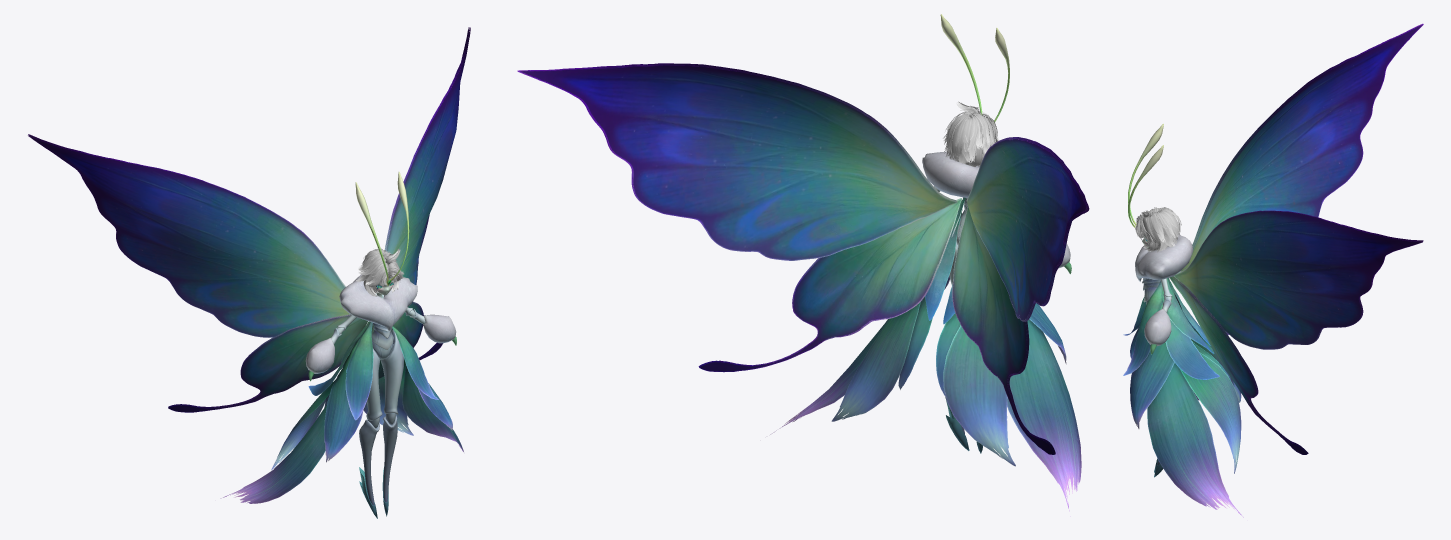
Rendered from somniwing.glb.
3 views of the same model, side by side, from view 1: azimuth 30°, elevation 25°; view 2: azimuth 150°, elevation 25°; view 3: azimuth 270°, elevation 25° (orthographic). The views are drawn at different scales.
Parts seen in each view (by area): view 1: M_Parmon_10233_Body02_LOD1_1788277942.obj, M_Parmon_10233_Body_LOD1_1788277942.obj, M_Parmon_10233_Body01_LOD1_1788277942.obj, M_Parmon_10233_Body03_LOD1_1788277942.obj; view 2: M_Parmon_10233_Body03_LOD1_1788277942.obj, M_Parmon_10233_Body_LOD1_1788277942.obj, M_Parmon_10233_Body01_LOD1_1788277942.obj, M_Parmon_10233_Body02_LOD1_1788277942.obj; view 3: M_Parmon_10233_Body02_LOD1_1788277942.obj, M_Parmon_10233_Body_LOD1_1788277942.obj, M_Parmon_10233_Body03_LOD1_1788277942.obj, M_Parmon_10233_Body01_LOD1_1788277942.obj.
Boxes of the visible parts, x1,y1,x2,y2 form: M_Parmon_10233_Body02_LOD1_1788277942.obj: (28,27,470,412); M_Parmon_10233_Body_LOD1_1788277942.obj: (28,27,469,518); M_Parmon_10233_Body01_LOD1_1788277942.obj: (356,248,403,296); M_Parmon_10233_Body03_LOD1_1788277942.obj: (28,27,468,407); M_Parmon_10233_Body03_LOD1_1788277942.obj: (519,65,1086,454); M_Parmon_10233_Body_LOD1_1788277942.obj: (518,14,1087,516); M_Parmon_10233_Body01_LOD1_1788277942.obj: (943,101,998,166); M_Parmon_10233_Body02_LOD1_1788277942.obj: (517,63,1089,454); M_Parmon_10233_Body02_LOD1_1788277942.obj: (1169,23,1422,454); M_Parmon_10233_Body_LOD1_1788277942.obj: (1123,24,1423,517); M_Parmon_10233_Body03_LOD1_1788277942.obj: (1173,24,1423,453); M_Parmon_10233_Body01_LOD1_1788277942.obj: (1135,207,1181,252).
Bounding box in the file's own units: 2.48 × 1.85 × 1.48.
Materials: 3 (3 with a texture image).
